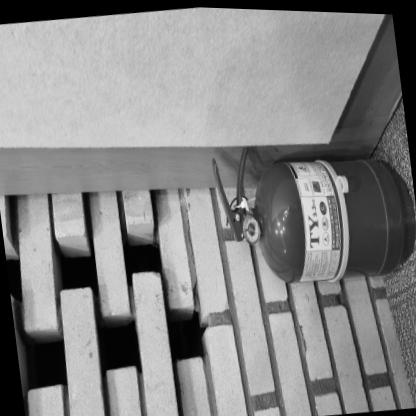FE: (208, 126, 416, 291)
